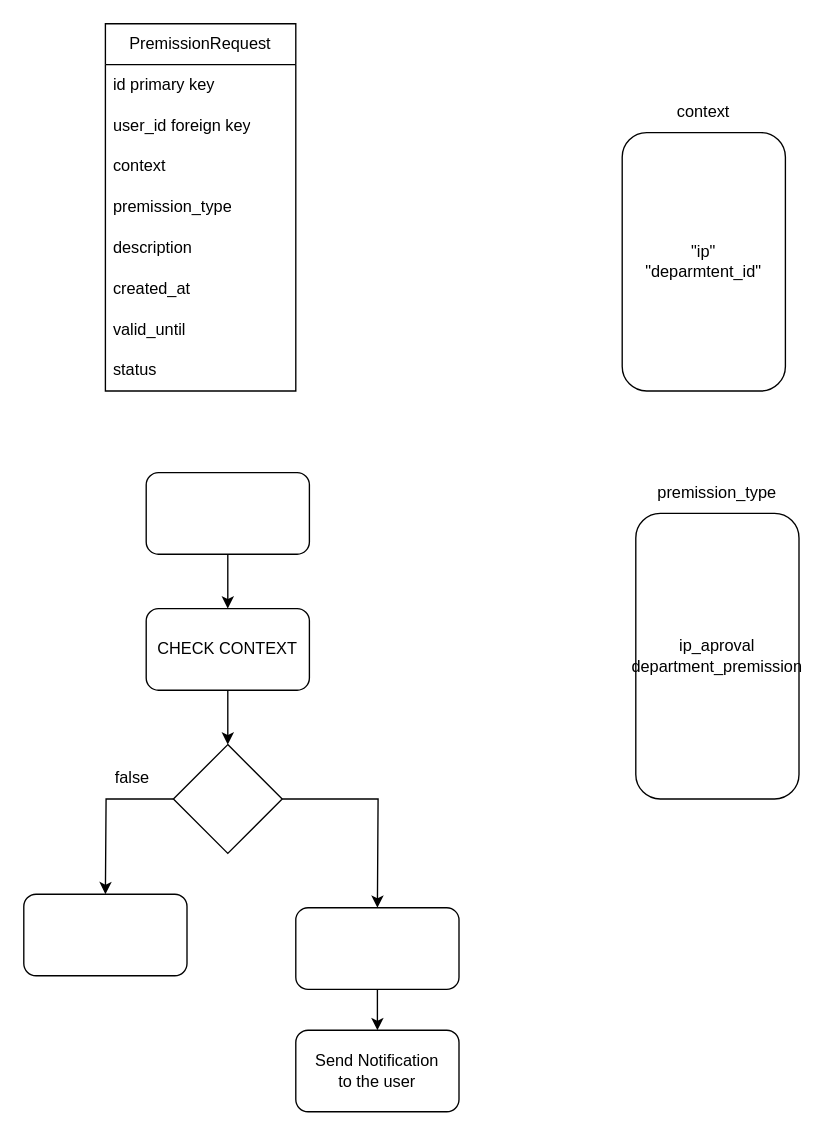
Some shapes in this 826 by 1136 pixel diagram are drawn without their labels. Here are the shapes that lost their labels. From the top down, the centre of each, then its label:
point 227,512: SEND REQUEST
point 104,934: STOP request already send
point 376,947: Create Premission request
